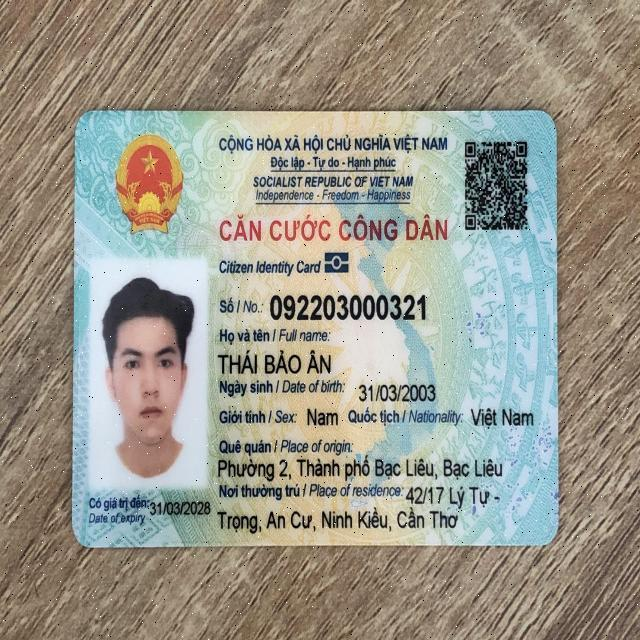current_place: (217, 506, 464, 531), (406, 480, 502, 507)
dob: (354, 378, 437, 405)
expire_date: (150, 496, 209, 519)
gender: (305, 403, 344, 430)
id: (266, 289, 427, 323)
name: (216, 346, 333, 375)
nationality: (470, 396, 537, 430)
origin_place: (217, 455, 506, 482)
